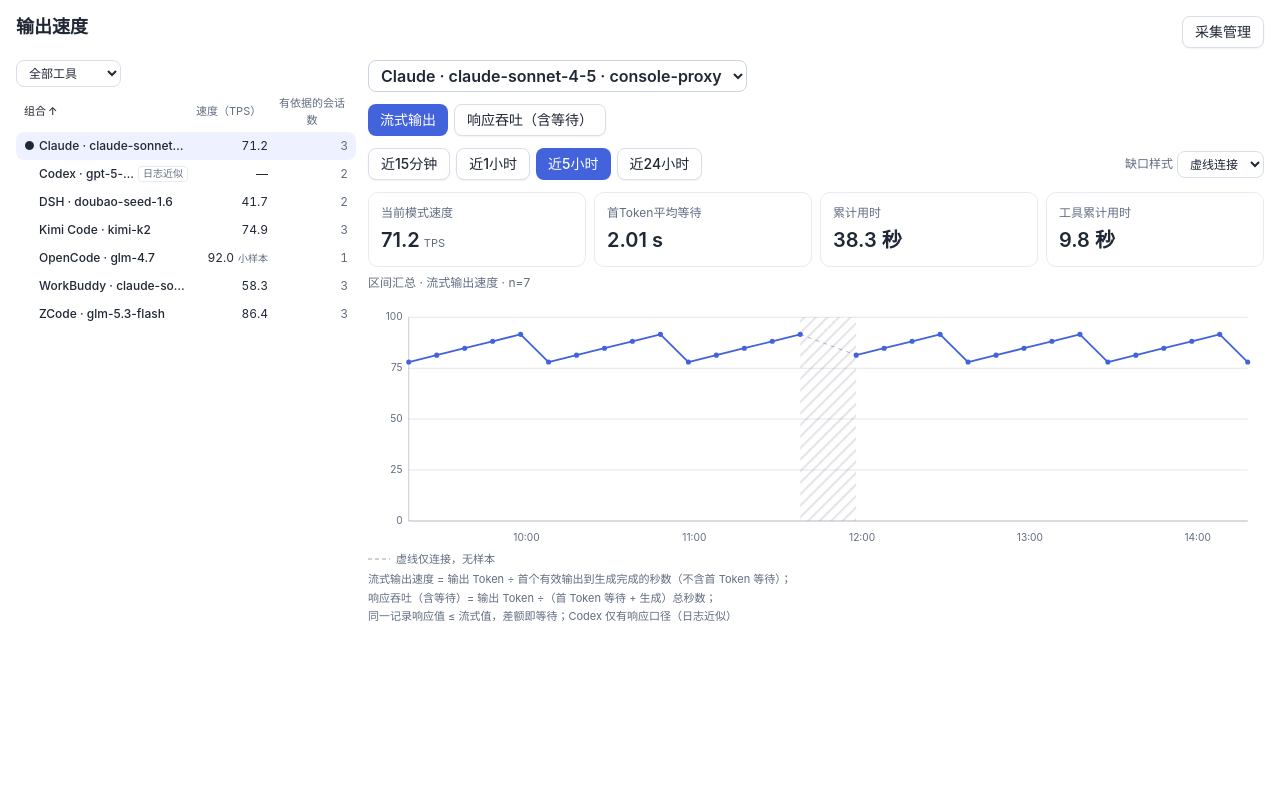
it: 口径切换与 fallback › 切 response：列表速度列 / 排序载荷 / 主数字单位 / 图轴单位 / 有效 n 一次同步
Expected: the element with test id "speed-metrics" is shown, [368,192,1264,290]
Step 1. Click the button with test id "speed-mode-response" → point(530, 120), box [454,104,606,136]
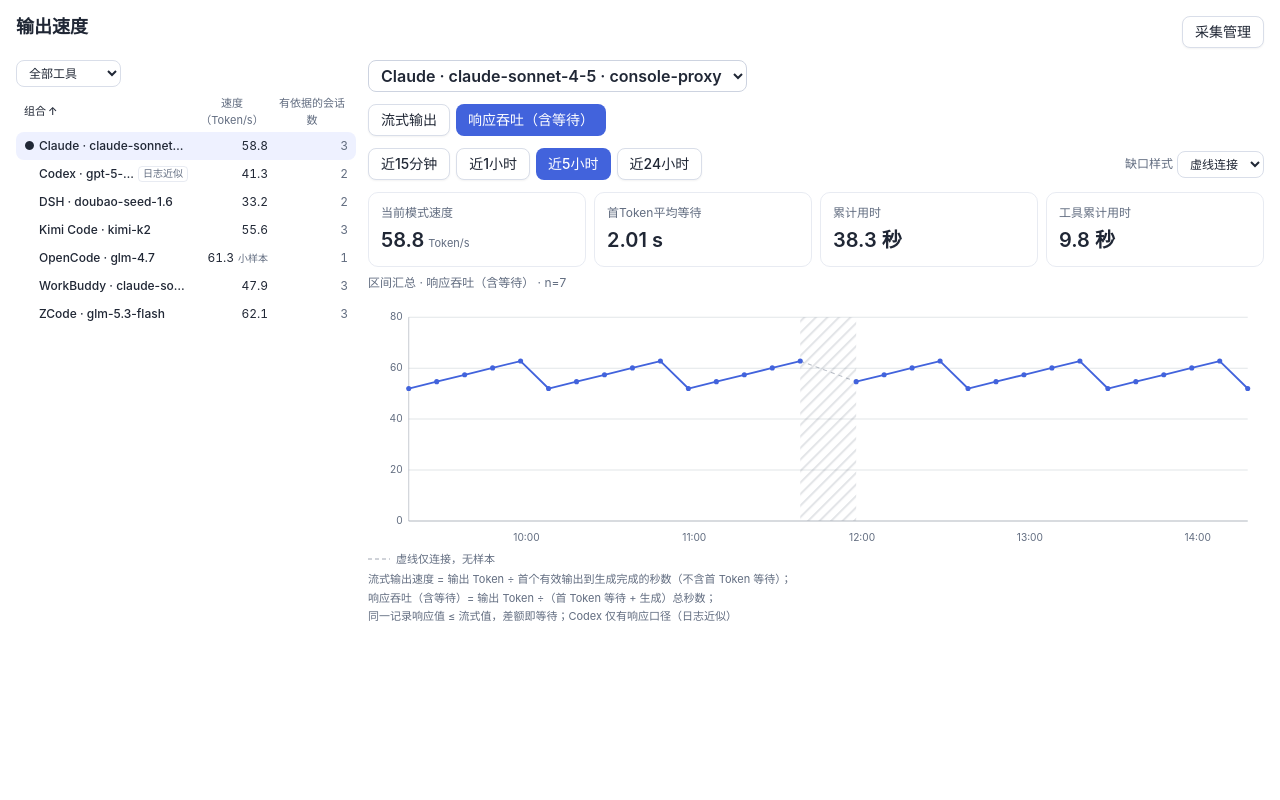
Expected: the button with test id "speed-series-row" shows "62.1", [16,300,356,328]
Expected: the text with test id "speed-rate-value" reads "58.8", [381,228,424,252]
Expected: the text with test id "speed-rate-unit" reads "Token/s", [428,236,470,250]
